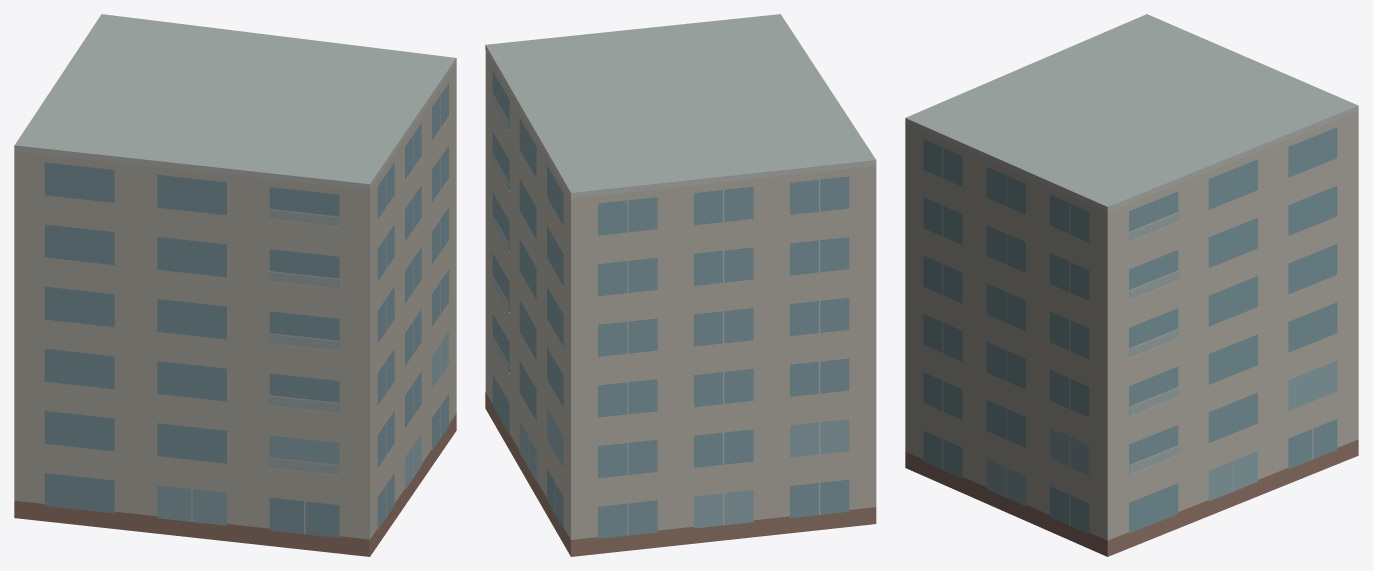
The model's file is survey-upis-32885806.glb.
3 renders of one model, left to right at view 1: azimuth 30°, elevation 25°; view 2: azimuth 150°, elevation 25°; view 3: azimuth 270°, elevation 25°, orthographic. The views are drawn at different scales.
Parts seen in each view (by area): view 1: survey-upis-32885806.tmp; view 2: survey-upis-32885806.tmp; view 3: survey-upis-32885806.tmp.
Boxes of the visible parts, bbox=[...] form: survey-upis-32885806.tmp: bbox=[14, 14, 456, 556]; survey-upis-32885806.tmp: bbox=[485, 14, 876, 556]; survey-upis-32885806.tmp: bbox=[905, 14, 1358, 556].
Size of the model in its own units: 18.45 by 15.6 by 18.33.
